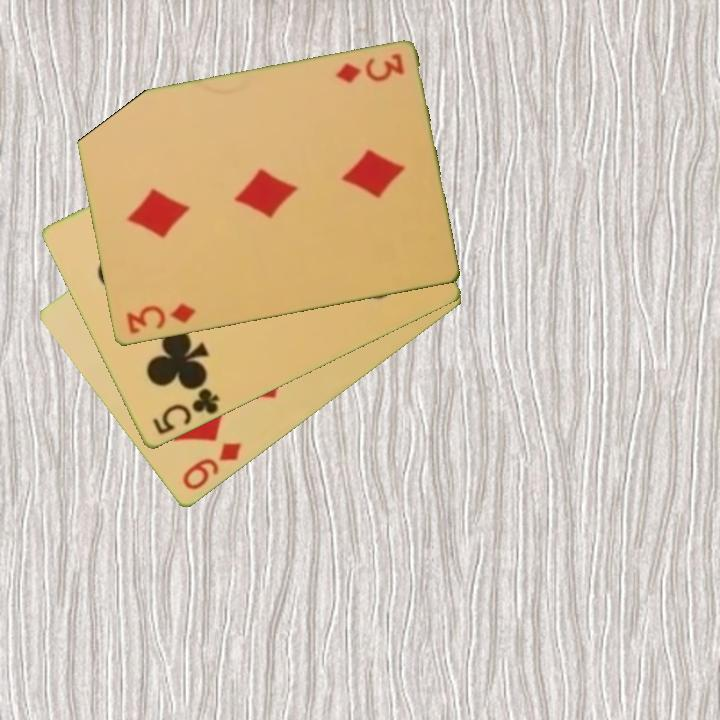3d: (122, 300, 199, 338), (331, 50, 407, 87)
5c: (149, 382, 223, 438)
9d: (179, 439, 245, 494)
